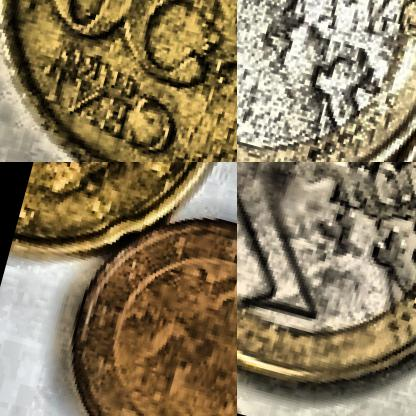coin: (39, 186, 236, 415), (237, 162, 415, 415), (0, 0, 236, 161), (237, 0, 415, 161)
